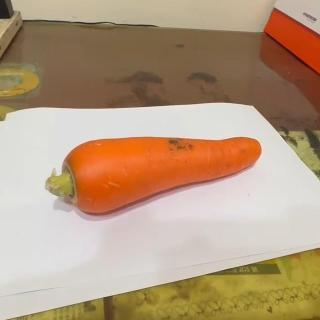carrot: (42, 133, 264, 214)
